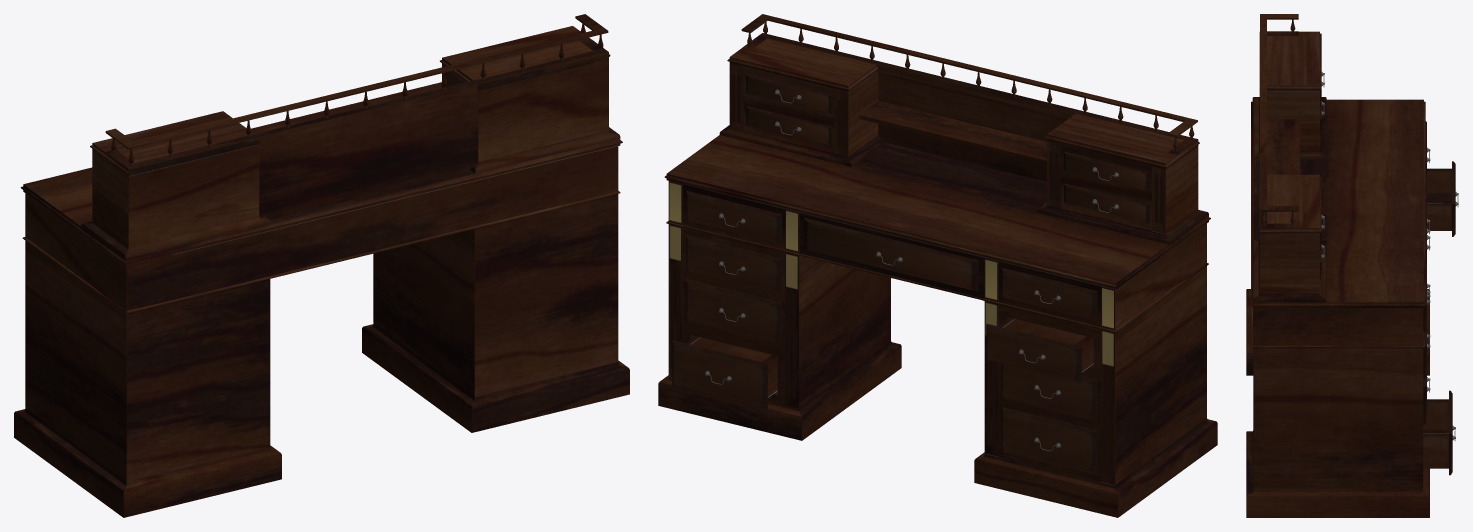
Rendered from desk-pedestal.glb.
The picture shows the model from 3 angles, left to right: view 1: azimuth 30°, elevation 25°; view 2: azimuth 150°, elevation 25°; view 3: azimuth 270°, elevation 25°; orthographic projection. The views are drawn at different scales.
Parts seen in each view (by area): view 1: desk-pedestal; view 2: desk-pedestal; view 3: desk-pedestal.
Boxes of the visible parts, bbox=[...] form: desk-pedestal: bbox=[14, 14, 629, 517]; desk-pedestal: bbox=[658, 14, 1217, 517]; desk-pedestal: bbox=[1246, 14, 1458, 517].
Size of the model in its own units: 1.6 by 1.09 by 0.6945.
Materials: 1 (1 with a texture image).
